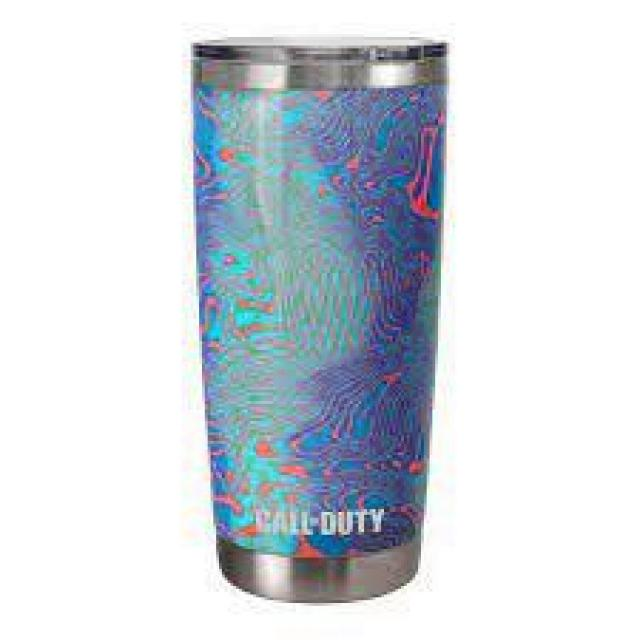bottle: (179, 31, 472, 609)
